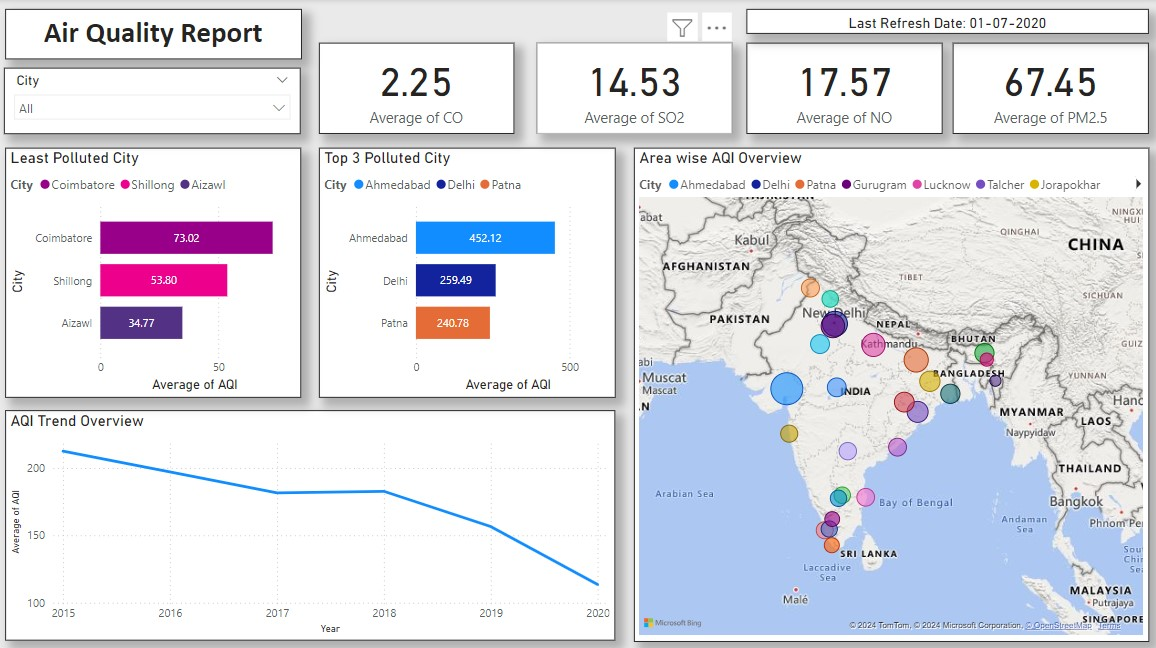

This screenshot's page, from the dashboard's own definition file:
{"tool":"powerbi","page":{"name":"Page 1","canvas":[1280,720],"ordinal":0},"visuals":[{"type":"lineChart","title":"AQI Trend Overview","fields":{"Category":["city_day.Date.Variation.Date Hierarchy.Year","city_day.Date.Variation.Date Hierarchy.Quarter","city_day.Date.Variation.Date Hierarchy.Month","city_day.Date.Variation.Date Hierarchy.Day"],"Y":["Avg(city_day.AQI)"]},"box":[12.3,451.5,669.6,252.5],"z":0},{"type":"barChart","title":"Top 3 Polluted City","fields":{"Category":["city_day.City"],"Y":["Avg(city_day.AQI)"],"Series":["city_day.City"]},"box":[356.8,163.3,325.2,274.4],"z":1000},{"type":"barChart","title":"Least Polluted City","fields":{"Category":["city_day.City"],"Y":["Avg(city_day.AQI)"],"Series":["city_day.City"]},"box":[12.3,163.3,325,274.4],"z":2000},{"type":"card","fields":{"Values":["Avg(city_day.CO)"]},"box":[357.1,38.6,214.3,110],"z":3000},{"type":"card","fields":{"Values":["Avg(city_day.NO)"]},"box":[825.7,38.6,215.7,110],"z":4000},{"type":"card","fields":{"Values":["Avg(city_day.SO2)"]},"box":[594.3,38.6,215.7,110],"z":5000},{"type":"card","fields":{"Values":["Avg(city_day.PM2.5)"]},"box":[1052.9,38.6,215.7,110],"z":6000},{"type":"map","title":"Area wise AQI Overview","fields":{"Category":["city_day.City"],"Size":["Avg(city_day.AQI)"],"Series":["city_day.City"]},"box":[702.6,163.3,565.4,542],"z":7000},{"type":"textbox","box":[12.3,11,325.2,54.9],"z":8000},{"type":"slicer","fields":{"Values":["city_day.City"]},"box":[12.3,75.5,325.2,72.7],"z":9000},{"type":"card","fields":{"Values":["city_day.MAX Date"]},"box":[825.7,0,442.9,28.6],"z":10000}]}

Visuals, with their boxes in screenshot pixels (x1, y1, x2, y2), scaled from the page's 1280x720 canvas onto the 1156x648 screenshot:
"AQI Trend Overview" lineChart: {"x1": 11, "y1": 406, "x2": 616, "y2": 634}
"Top 3 Polluted City" barChart: {"x1": 322, "y1": 147, "x2": 616, "y2": 394}
"Least Polluted City" barChart: {"x1": 11, "y1": 147, "x2": 305, "y2": 394}
card - Avg(city_day.CO): {"x1": 323, "y1": 35, "x2": 516, "y2": 134}
card - Avg(city_day.NO): {"x1": 746, "y1": 35, "x2": 941, "y2": 134}
card - Avg(city_day.SO2): {"x1": 537, "y1": 35, "x2": 732, "y2": 134}
card - Avg(city_day.PM2.5): {"x1": 951, "y1": 35, "x2": 1146, "y2": 134}
"Area wise AQI Overview" map: {"x1": 635, "y1": 147, "x2": 1145, "y2": 635}
textbox: {"x1": 11, "y1": 10, "x2": 305, "y2": 59}
slicer - city_day.City: {"x1": 11, "y1": 68, "x2": 305, "y2": 133}
card - city_day.MAX Date: {"x1": 746, "y1": 0, "x2": 1146, "y2": 26}
